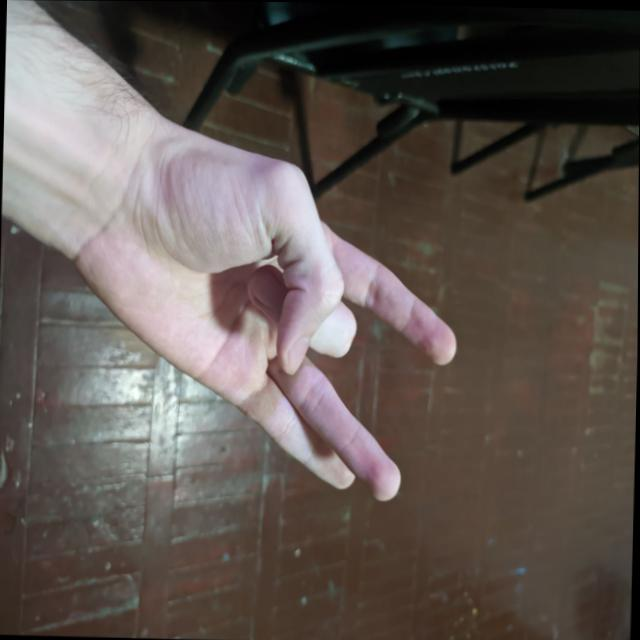r: (78, 112, 461, 530)
